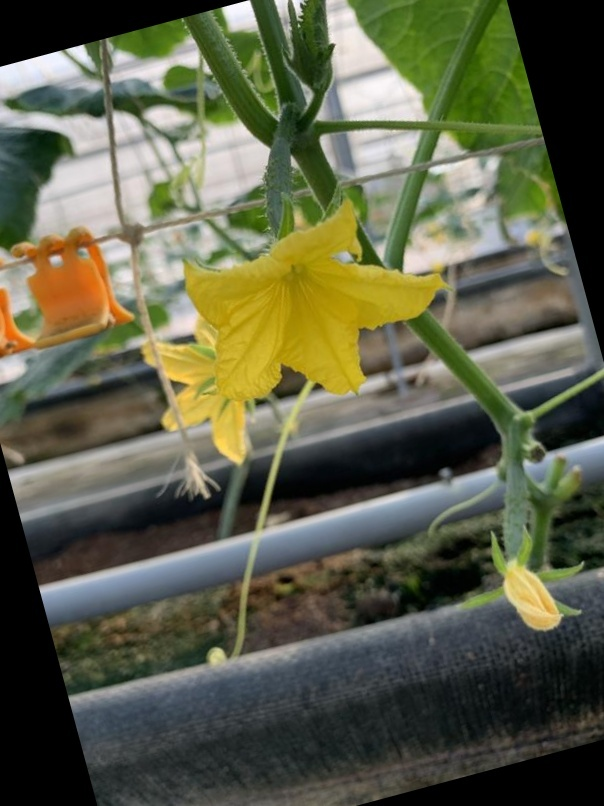flowering: (160, 121, 449, 407)
